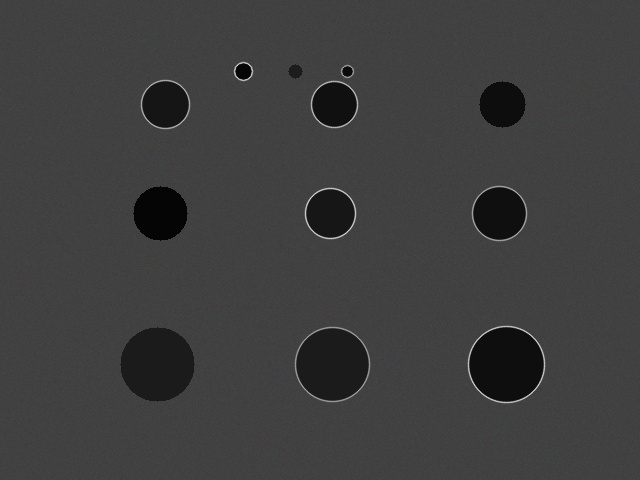hole: (468, 326, 544, 402), (120, 327, 194, 401), (295, 327, 369, 401), (133, 186, 187, 240), (472, 186, 526, 240), (305, 188, 355, 238), (141, 80, 189, 128), (311, 81, 357, 127), (479, 81, 525, 127), (234, 62, 252, 80), (288, 64, 302, 78), (341, 65, 353, 77)
